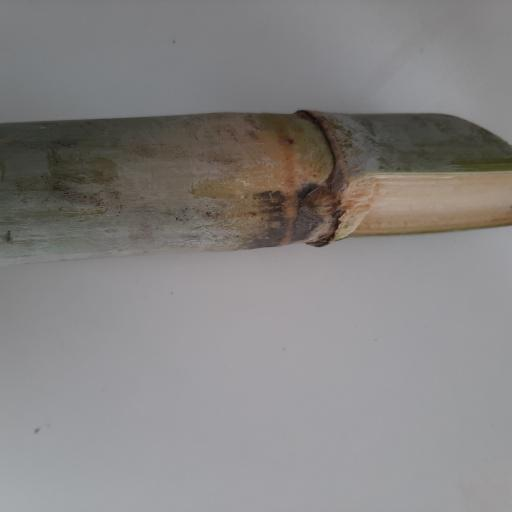Bud: (300, 187, 338, 218)
